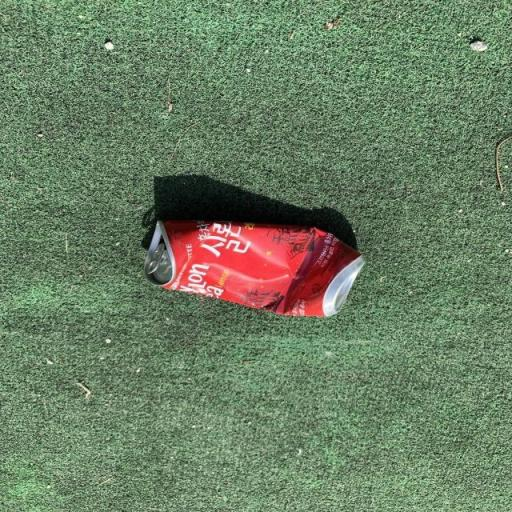metal: (135, 198, 382, 333)
